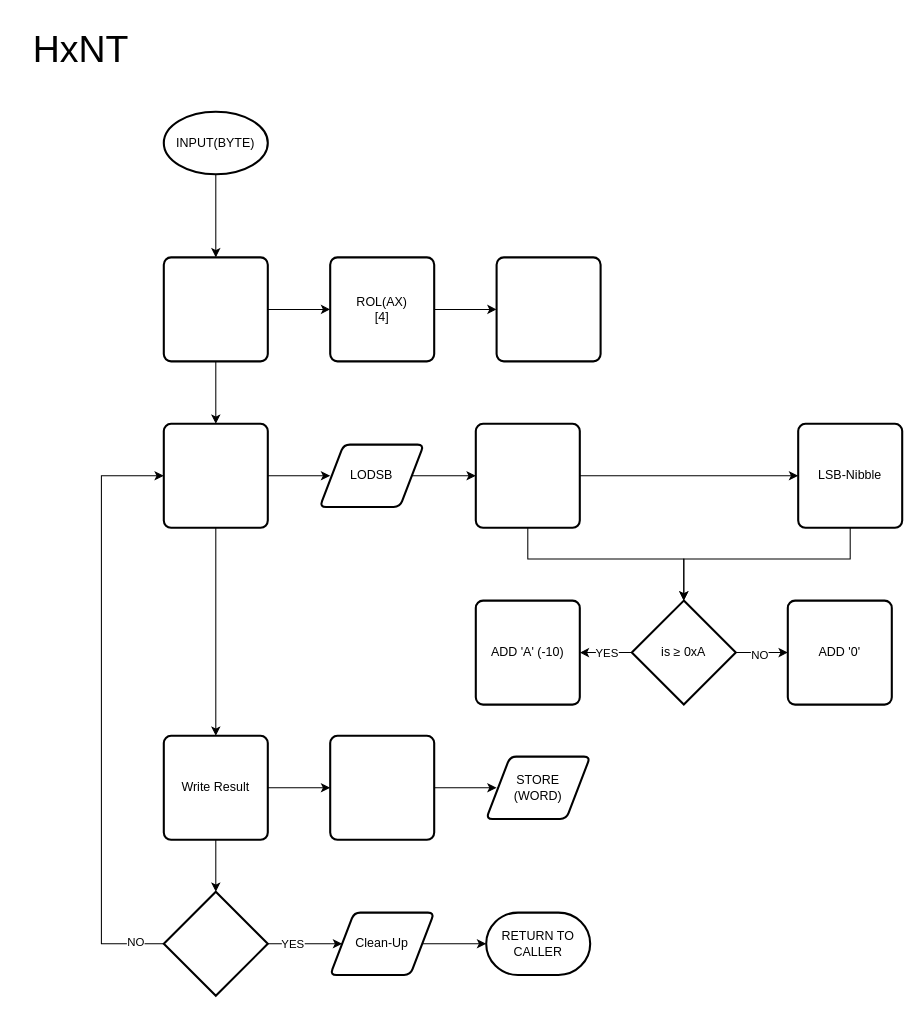
Image size: 920x1014. Some labels were removed from this diagram. The shapes that lost their labels are listed below. From the top down, each one's centre as x and y in pixels, then its label:
At (215,309): "Splitting".
At (548,309): "ROR(AL) [4]".
At (215,475): "Conversion".
At (527,475): "MSB-Nibble".
At (382,787): "XCHG(AX)".
At (215,943): "Is Count 0".
